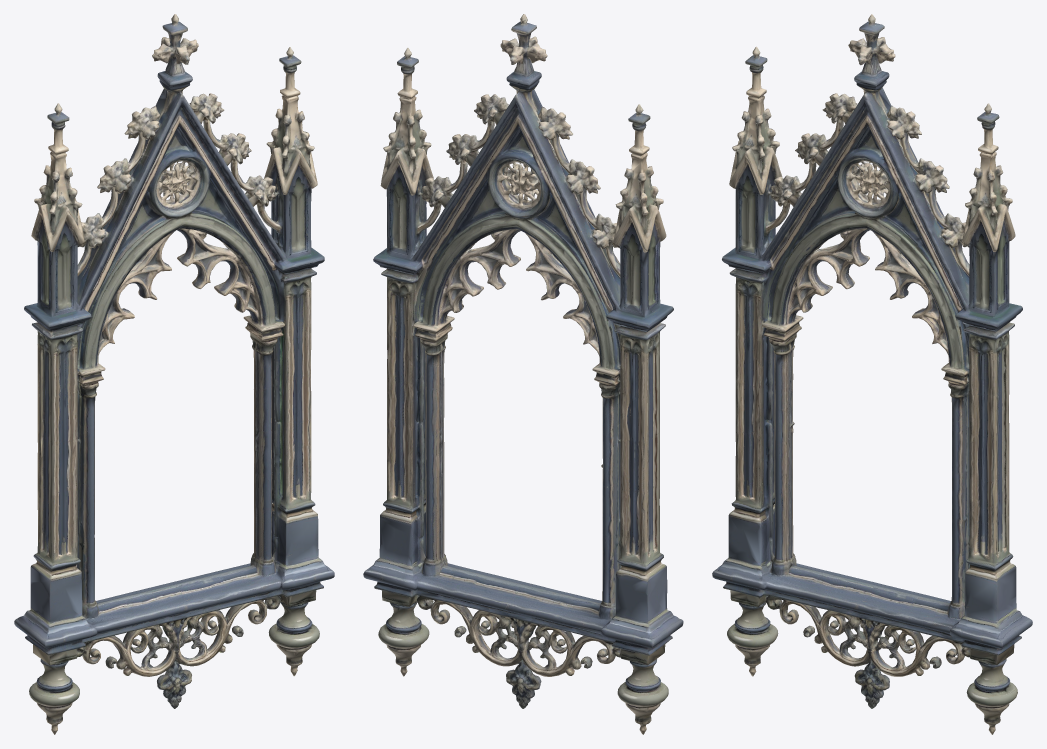
Rendered from victorian-frame-textured-hq.glb.
3 views of the same model, side by side, from view 1: azimuth 30°, elevation 25°; view 2: azimuth 150°, elevation 25°; view 3: azimuth 330°, elevation 25° (orthographic).
Visible parts, largest first — view 1: Mesh_0; view 2: Mesh_0; view 3: Mesh_0.
Part boxes in pixels (<box>): Mesh_0: <box>14,14,334,734</box>; Mesh_0: <box>363,14,683,734</box>; Mesh_0: <box>712,14,1032,734</box>.
Size of the model in its own units: 0.0873 by 0.2 by 0.0163.
1 material, 1 textured.
